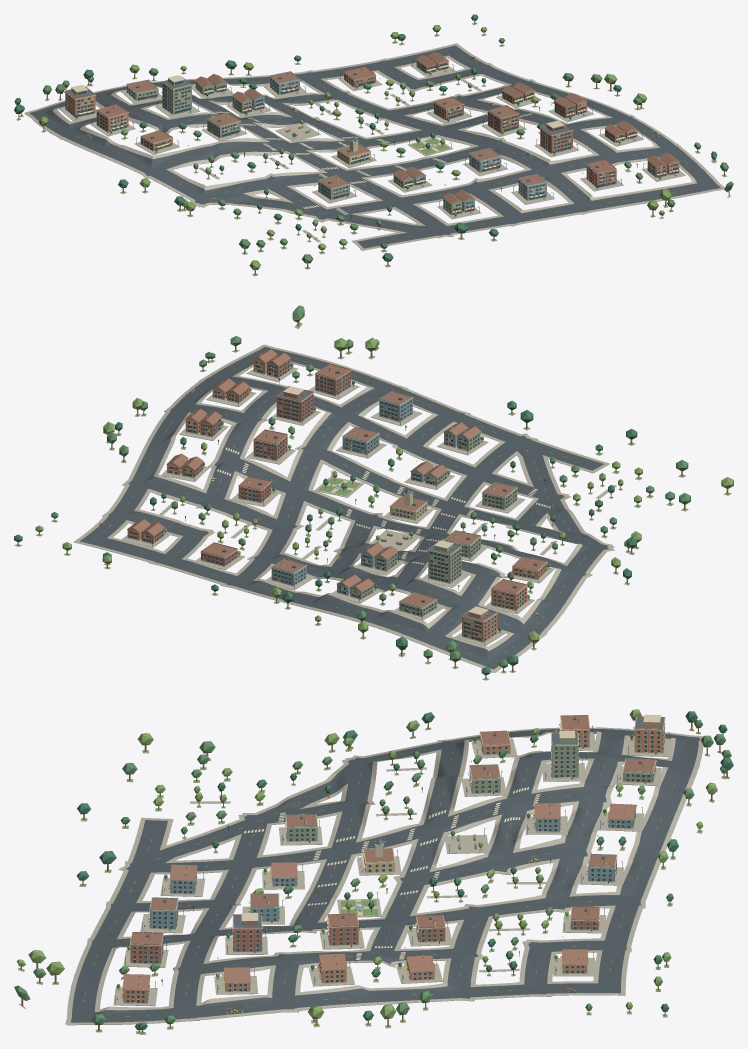
File: city-papaya.glb
3 views of the same model, one above another, from view 1: azimuth 30°, elevation 25°; view 2: azimuth 150°, elevation 25°; view 3: azimuth 270°, elevation 25° (orthographic). The views are drawn at different scales.
Visible parts, largest first — view 1: City_streets_asphalt_Asphalt, City_streets_sidewalk_Sidewalk, City_solids_Sidewalk, City_details_Terracotta_roofs, City_details_Limestone_trim, City_details_Blue_glazing, City_streets_curb_Curb_stone, City_solids_Facade_4, City_details_Tree_canopy_0, City_details_Tree_canopy_1, City_details_Tree_canopy_2, City_solids_Facade_1 (+9 smaller); view 2: City_streets_asphalt_Asphalt, City_streets_sidewalk_Sidewalk, City_details_Terracotta_roofs, City_details_Limestone_trim, City_solids_Sidewalk, City_details_Blue_glazing, City_solids_Facade_4, City_streets_curb_Curb_stone, City_details_Tree_canopy_0, City_details_Tree_canopy_1, City_solids_Facade_1, City_details_Tree_canopy_2 (+7 smaller); view 3: City_streets_asphalt_Asphalt, City_streets_sidewalk_Sidewalk, City_solids_Sidewalk, City_details_Terracotta_roofs, City_details_Limestone_trim, City_details_Blue_glazing, City_details_Tree_canopy_1, City_details_Tree_canopy_0, City_streets_curb_Curb_stone, City_details_Tree_canopy_2, City_solids_Facade_0, City_solids_Facade_4 (+9 smaller).
Part boxes in pixels (box(x1,y1,x2,y2)): City_streets_asphalt_Asphalt: box(30, 45, 720, 248); City_streets_sidewalk_Sidewalk: box(24, 43, 724, 250); City_solids_Sidewalk: box(59, 64, 685, 219); City_details_Terracotta_roofs: box(98, 52, 679, 204); City_details_Limestone_trim: box(65, 57, 679, 215); City_details_Blue_glazing: box(66, 57, 678, 214); City_streets_curb_Curb_stone: box(25, 45, 722, 250); City_solids_Facade_4: box(344, 60, 666, 185); City_details_Tree_canopy_0: box(22, 38, 733, 263); City_details_Tree_canopy_1: box(39, 25, 671, 269); City_details_Tree_canopy_2: box(14, 14, 717, 261); City_solids_Facade_1: box(126, 78, 462, 214); City_streets_asphalt_Asphalt: box(80, 347, 608, 669); City_streets_sidewalk_Sidewalk: box(74, 344, 614, 672); City_details_Terracotta_roofs: box(127, 349, 545, 607); City_details_Limestone_trim: box(127, 354, 547, 642); City_solids_Sidewalk: box(121, 366, 554, 645); City_details_Blue_glazing: box(99, 360, 546, 640); City_solids_Facade_4: box(141, 359, 350, 565); City_streets_curb_Curb_stone: box(74, 347, 614, 672); City_details_Tree_canopy_0: box(51, 305, 690, 668); City_details_Tree_canopy_1: box(35, 337, 733, 643); City_solids_Facade_1: box(350, 432, 517, 616); City_details_Tree_canopy_2: box(14, 352, 637, 675); City_streets_asphalt_Asphalt: box(71, 729, 700, 1022); City_streets_sidewalk_Sidewalk: box(65, 727, 703, 1025); City_solids_Sidewalk: box(113, 732, 671, 1006); City_details_Terracotta_roofs: box(122, 715, 655, 989); City_details_Limestone_trim: box(121, 714, 665, 1012); City_details_Blue_glazing: box(123, 723, 664, 1011); City_details_Tree_canopy_1: box(16, 709, 717, 1019); City_details_Tree_canopy_0: box(14, 719, 731, 1025); City_streets_curb_Curb_stone: box(68, 728, 699, 1025); City_details_Tree_canopy_2: box(76, 711, 733, 1030); City_solids_Facade_0: box(123, 720, 663, 1002); City_solids_Facade_4: box(128, 920, 598, 992).
Size of the model in its own units: 445 by 48.44 by 443.
